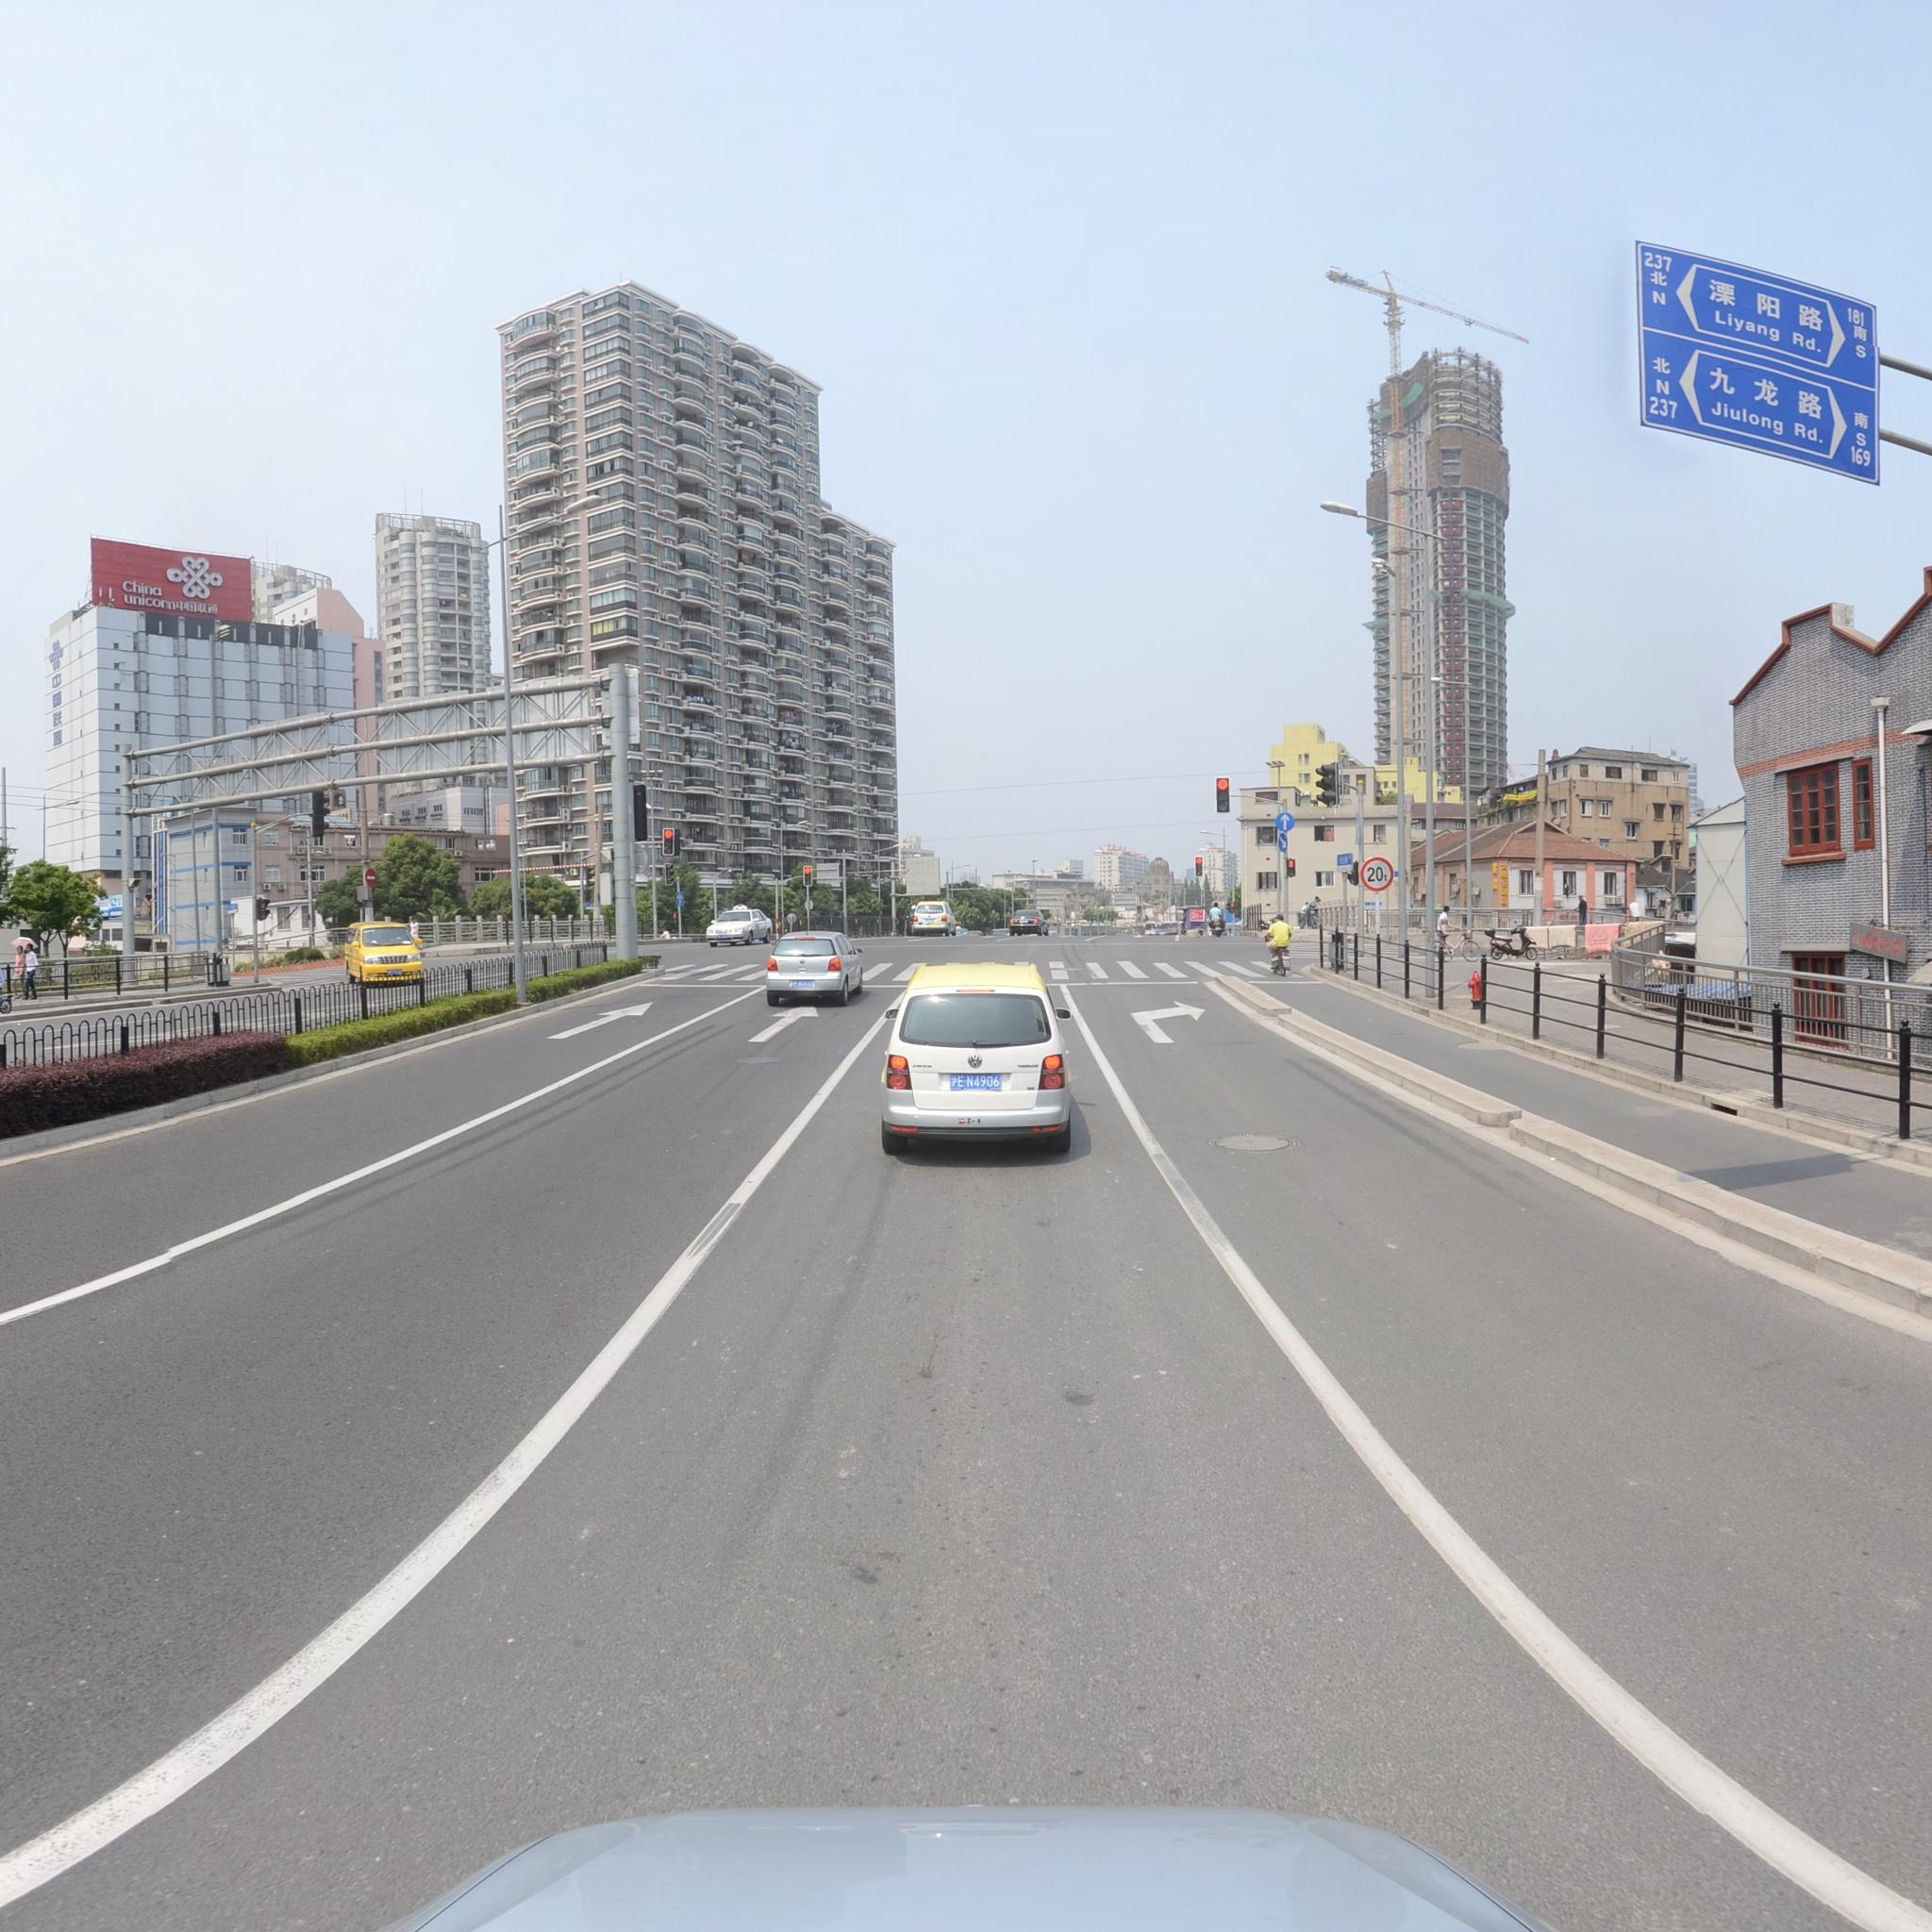i5: (1277, 833, 1290, 851)
pm20: (1362, 856, 1391, 890)
pne: (363, 867, 377, 888)
